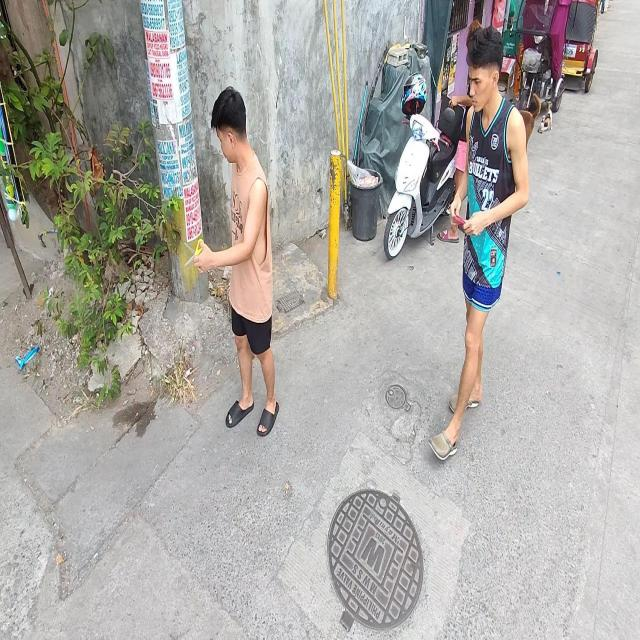scissor: (184, 238, 204, 270)
